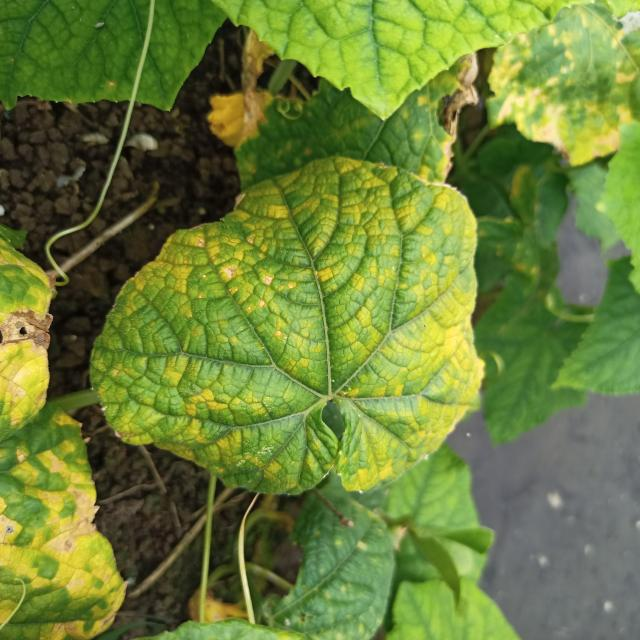disease_cucumber: (104, 163, 484, 486)
